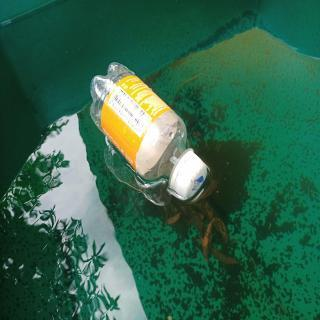bottle: (88, 60, 208, 204)
